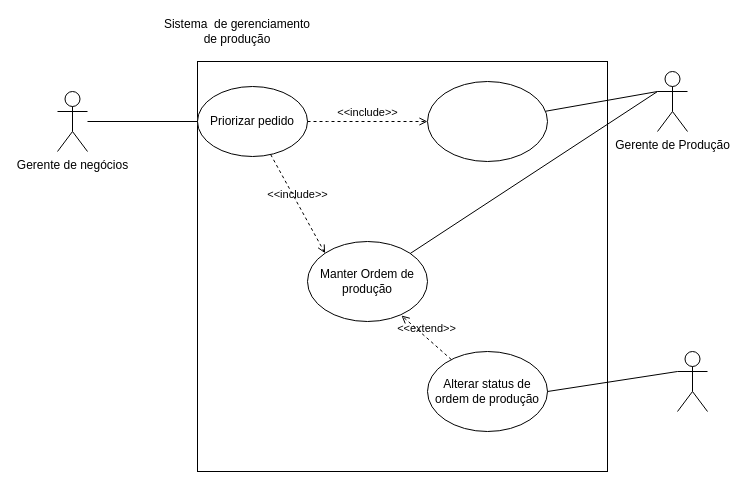
Some shapes in this 747 by 489 pixel diagram are drawn without their labels. The shapes that lost their labels are listed below. From the top down, each one's centre as x and y in pixels, then its label:
point 487,121: Manter planejamento de produção
point 692,381: Operário
